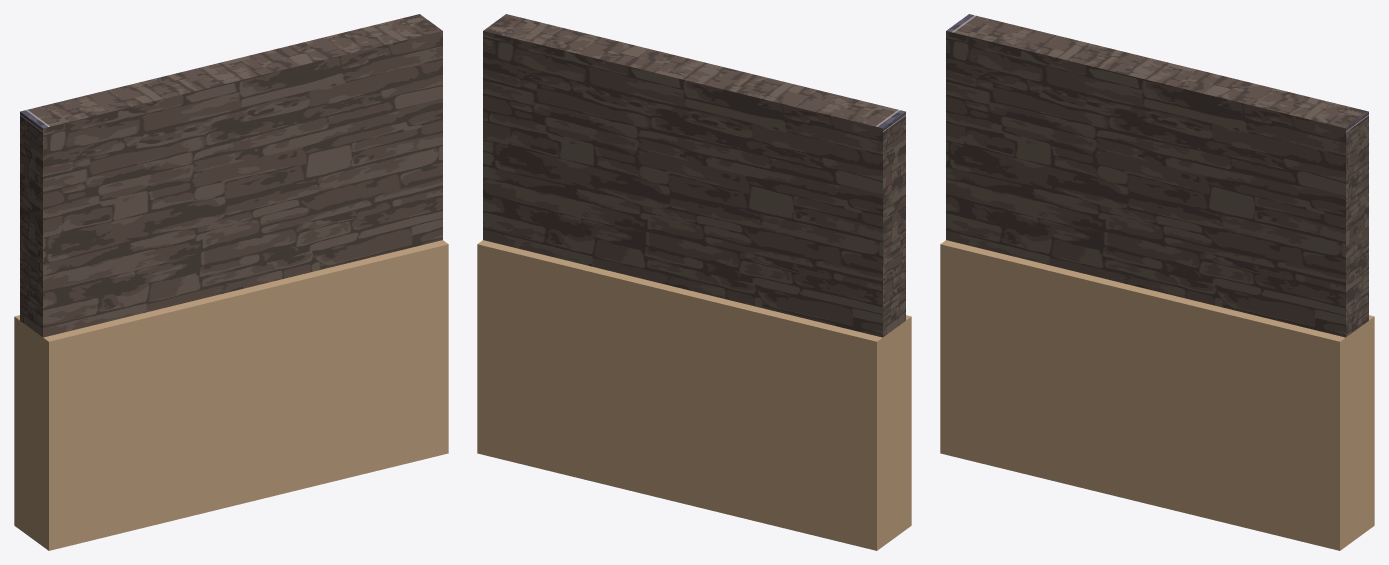
File: Office-Room-1-Wall-3.fbx
3 renders of one model, left to right at view 1: azimuth 30°, elevation 25°; view 2: azimuth 150°, elevation 25°; view 3: azimuth 330°, elevation 25°, orthographic.
Parts seen in each view (by area): view 1: Office-Door-1-Wall-3; view 2: Office-Door-1-Wall-3; view 3: Office-Door-1-Wall-3.
Boxes of the visible parts, box(x1,y1,x2,y2) form: Office-Door-1-Wall-3: box(14, 14, 448, 550); Office-Door-1-Wall-3: box(477, 14, 911, 550); Office-Door-1-Wall-3: box(940, 14, 1374, 550).
Bounding box in the file's own units: 2 × 2 × 0.3.
